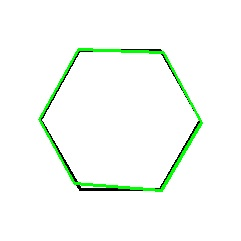line_segment: (39, 48, 202, 192)
